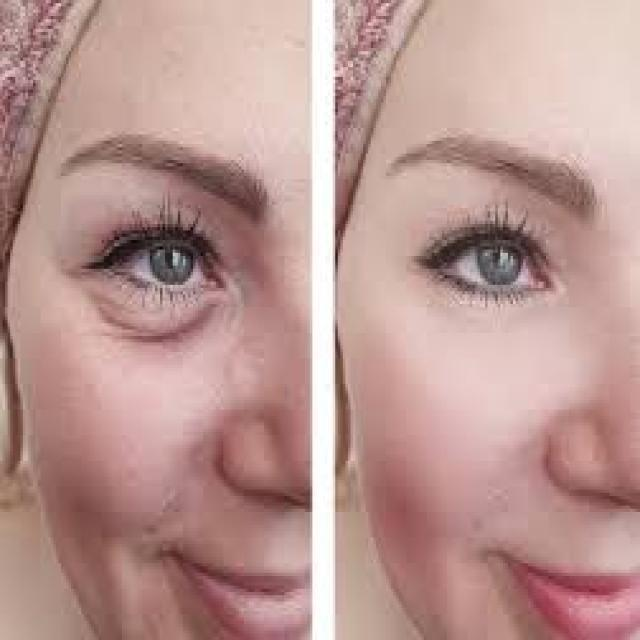Puffy Eyes - v3 Dark Circle: (82, 293, 218, 366)
